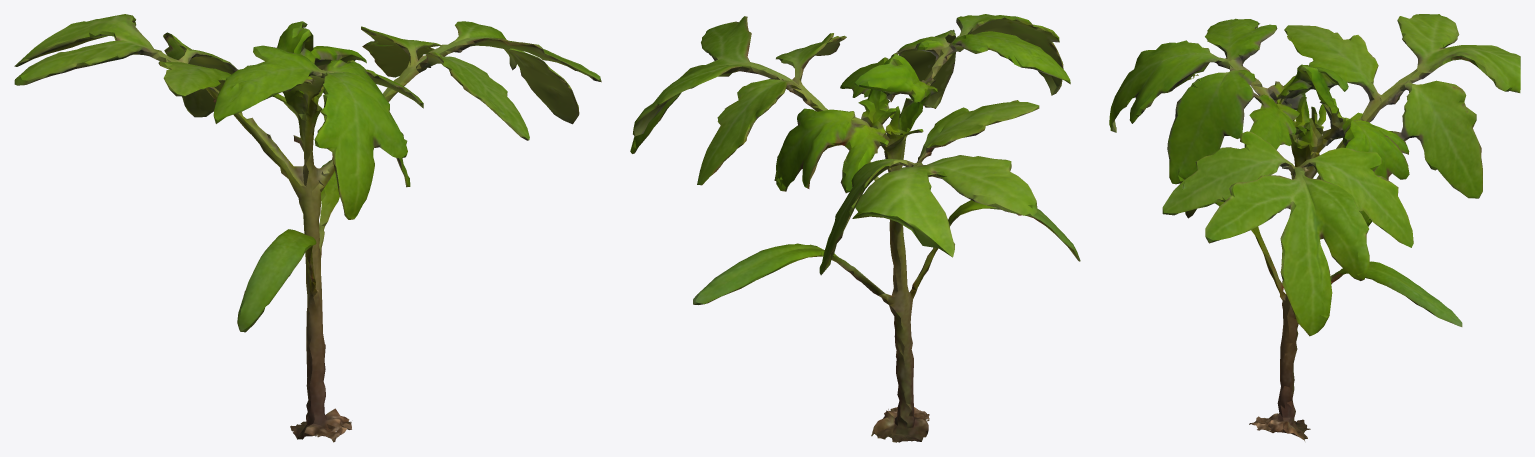
The model's file is baby_tomato_plant_scan_low_poly.glb.
3 renders of one model, left to right at view 1: azimuth 30°, elevation 25°; view 2: azimuth 150°, elevation 25°; view 3: azimuth 270°, elevation 25°, orthographic. The views are drawn at different scales.
Parts seen in each view (by area): view 1: Group53734; view 2: Group53734; view 3: Group53734.
Boxes of the visible parts, x1,y1,x2,y2 form: Group53734: (14,14,601,442); Group53734: (630,14,1080,442); Group53734: (1109,14,1520,440).
Size of the model in its own units: 19.75 by 15.9 by 15.64.
Materials: 1 (1 with a texture image).
